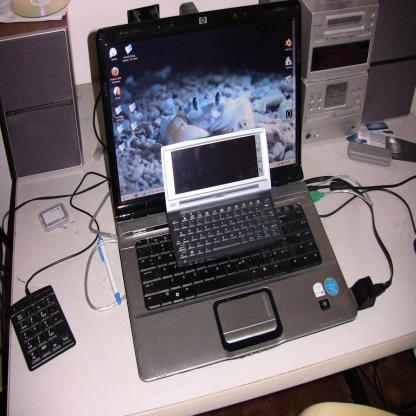board: (97, 0, 357, 380)
